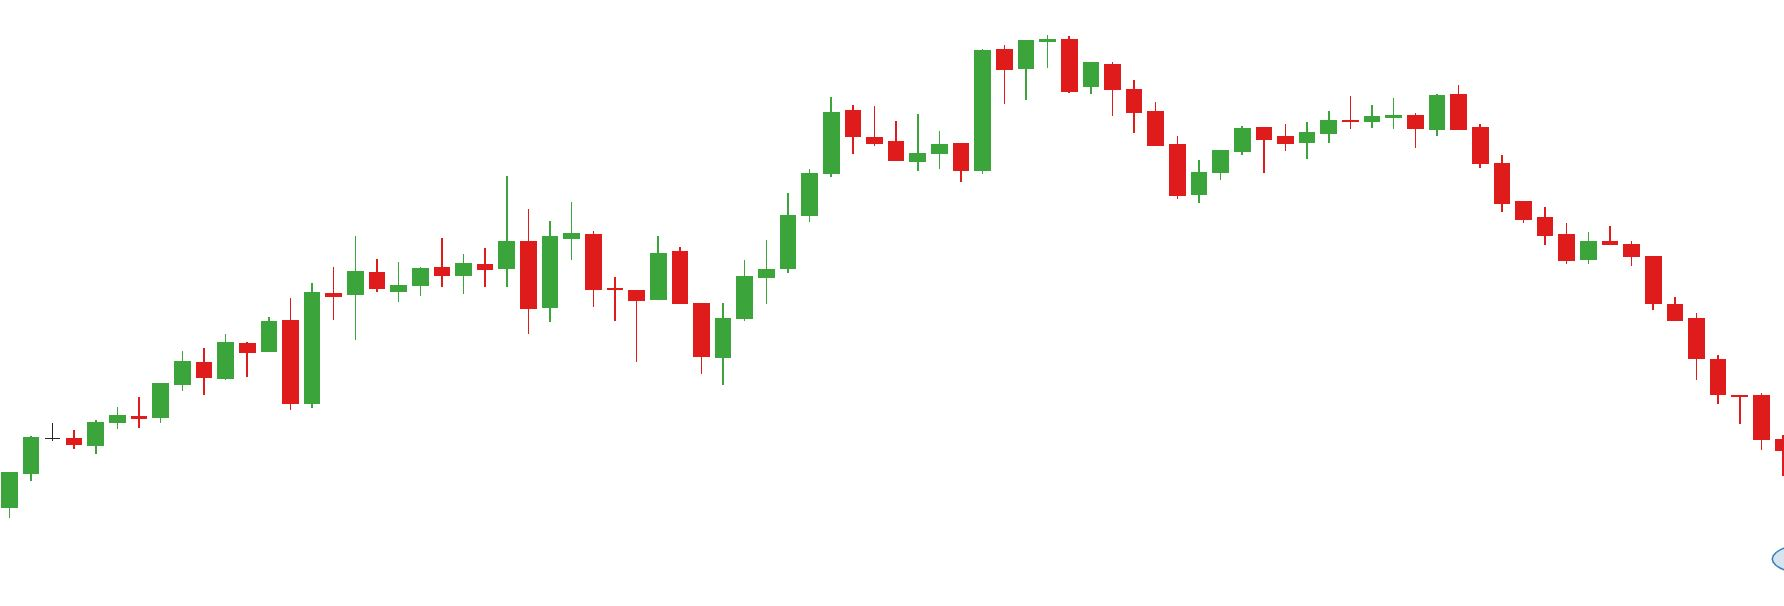buy: (517, 229, 672, 371)
